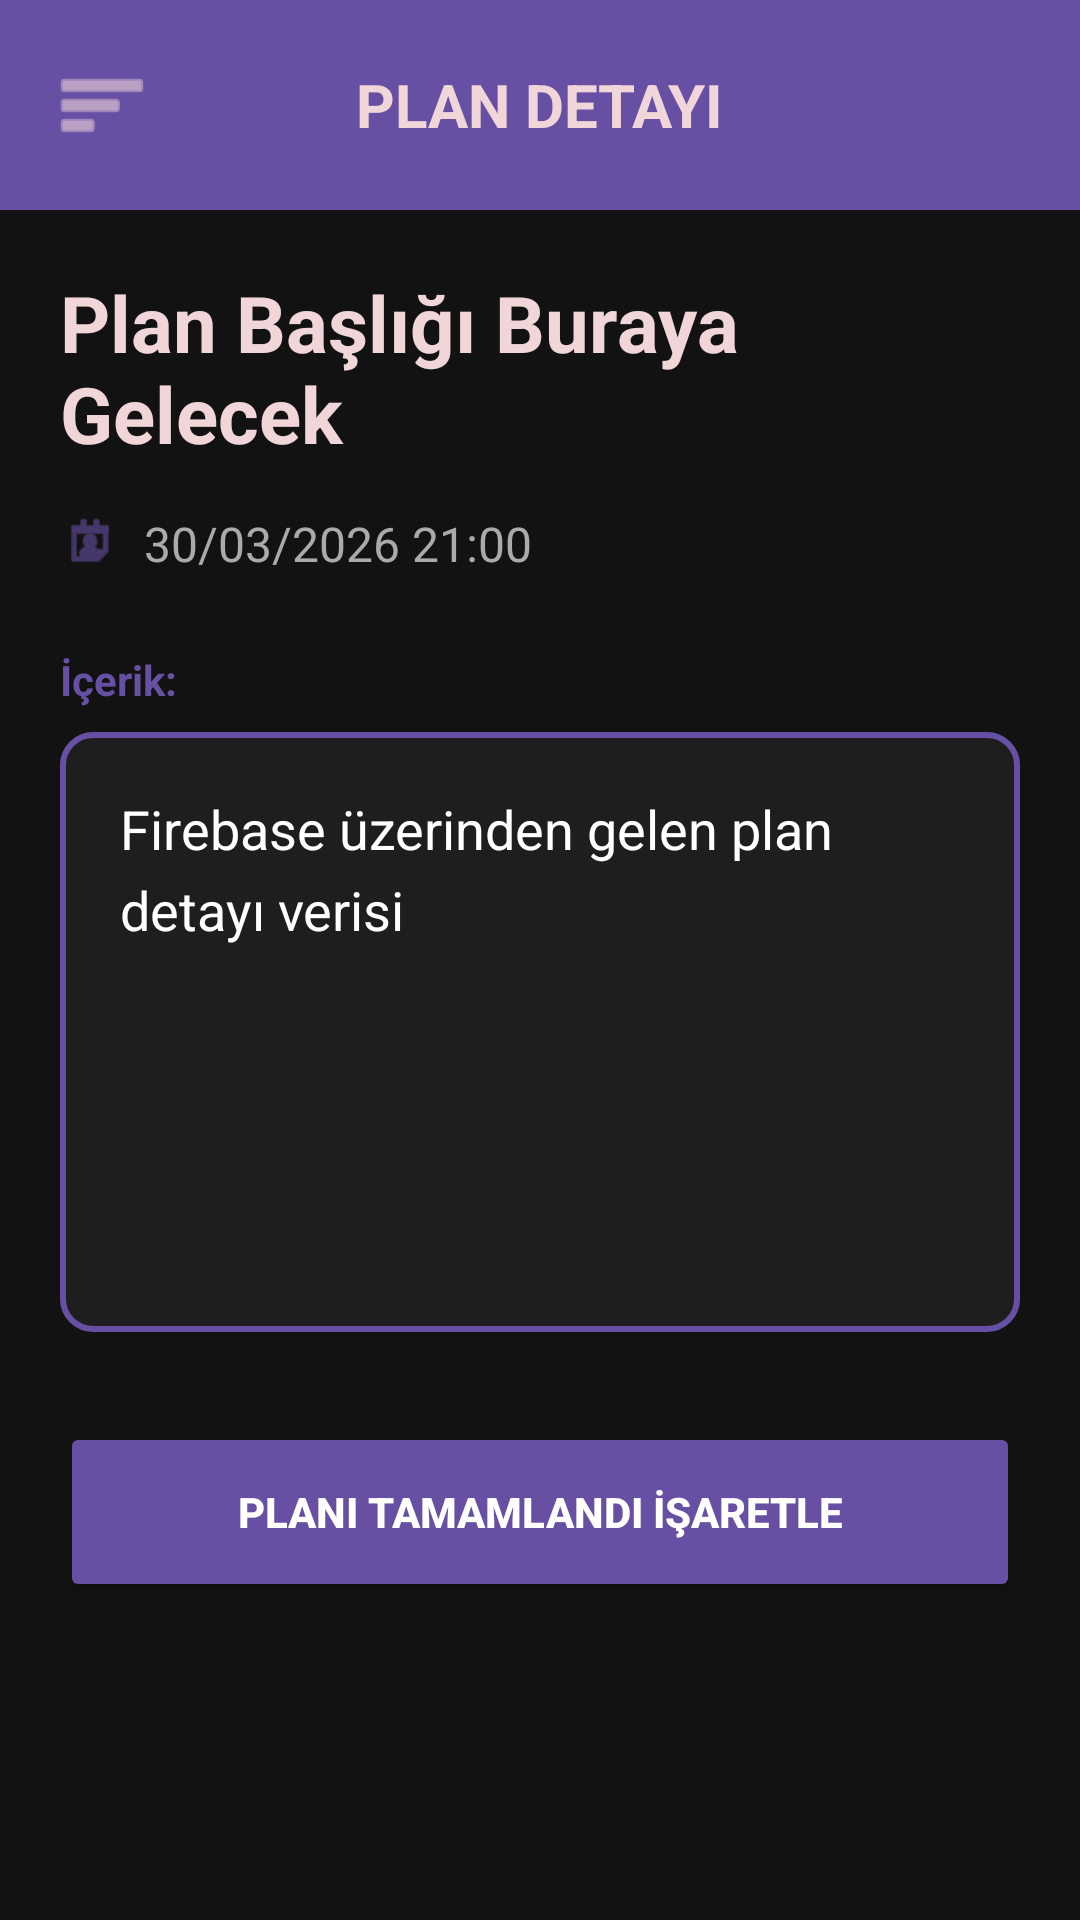

Screen size 1080×1920. Icon name, then its box in pixels as [x1=x1, y1=y1, x2=x2, y2=y2]:
calendar: [x1=71, y1=518, x2=109, y2=562]
Menü Aç: [x1=61, y1=79, x2=143, y2=132]
